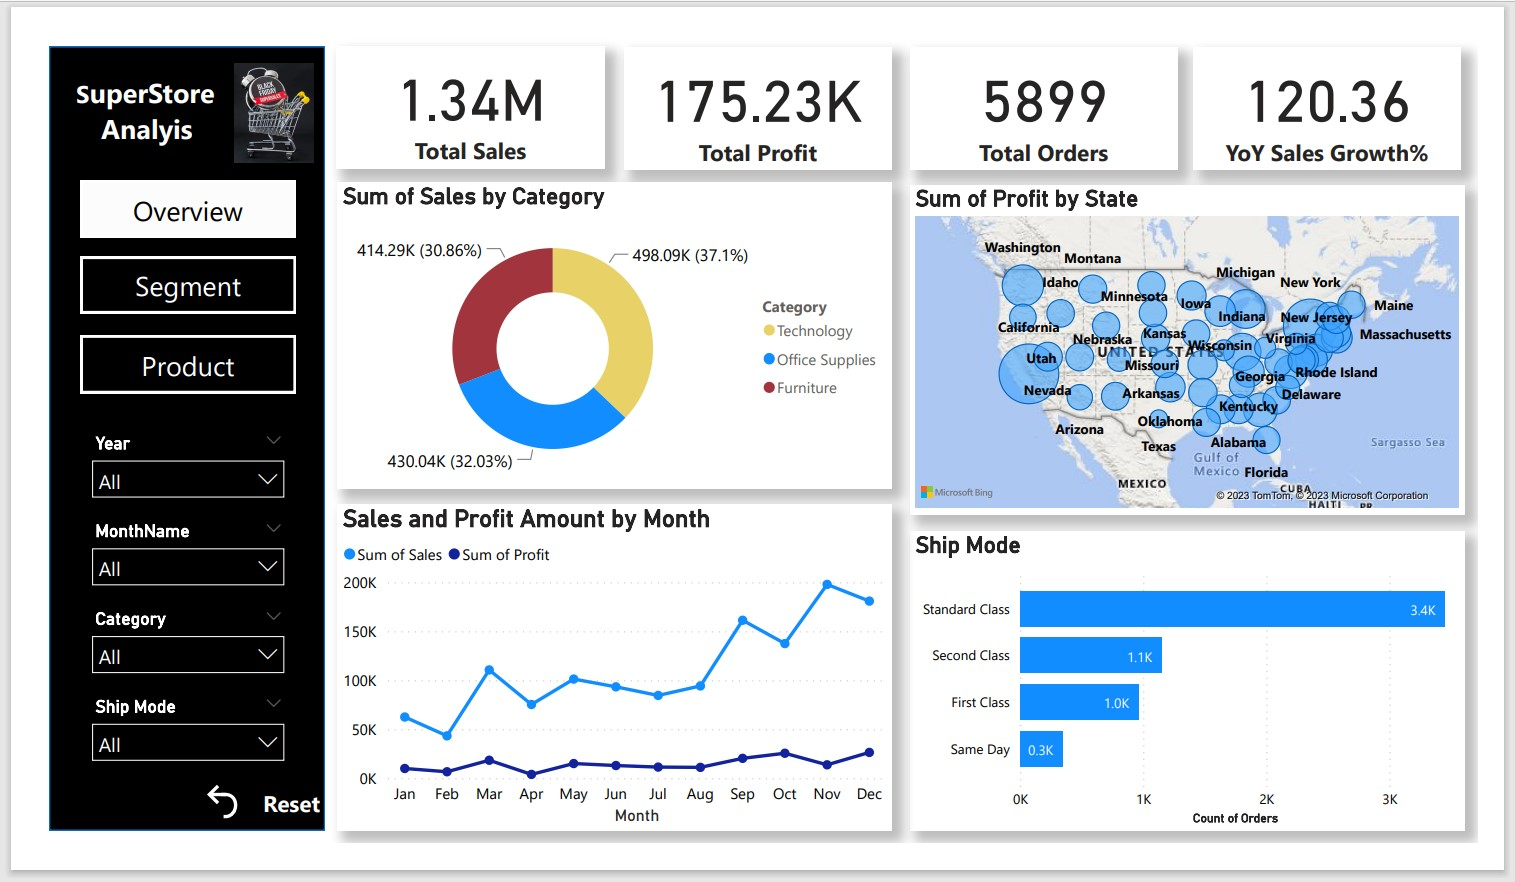

The page's visual inventory and layout, read from the dashboard file:
{"tool":"powerbi","page":{"name":"Overview","canvas":[1280,720],"ordinal":0},"visuals":[{"type":"shape","title":"SUPERSTORE","box":[9.8,12.2,245.7,696.8],"z":0},{"type":"textbox","box":[29.3,30.6,135.7,79.5],"z":1000},{"type":"image","box":[165,22,90.5,97.8],"z":2000},{"type":"actionButton","box":[37.9,130.8,190.7,51.3],"z":3000},{"type":"actionButton","box":[37.9,268.9,190.7,50.1],"z":4000},{"type":"actionButton","box":[37.9,205.4,190.7,51.3],"z":5000},{"type":"slicer","fields":{"Values":["Orders.Year"]},"box":[37.9,349.6,190.7,68.5],"z":6000},{"type":"slicer","fields":{"Values":["Orders.MonthName"]},"box":[37.9,427.8,190.7,78.2],"z":7000},{"type":"slicer","fields":{"Values":["Orders.Category"]},"box":[37.9,506.1,190.7,78.2],"z":8000},{"type":"slicer","fields":{"Values":["Orders.Ship Mode"]},"box":[37.9,584.3,190.7,78.2],"z":9000},{"type":"card","fields":{"Values":["Orders.Total Sales"]},"box":[265.3,12.2,238.4,108.8],"z":10000},{"type":"card","fields":{"Values":["Orders.Total Profit"]},"box":[520.7,13.4,238.4,108.8],"z":11000},{"type":"card","fields":{"Values":["CountNonNull(Orders.Order ID)"]},"box":[775,13.4,238.4,108.8],"z":12000},{"type":"card","fields":{"Values":["CountNonNull(Returns.Order ID)"]},"box":[1026.8,13.4,238.4,108.8],"z":13000},{"type":"donutChart","fields":{"Category":["Orders.Category"],"Y":["Sum(Orders.Sales)"]},"box":[266.2,132.5,492.5,272.5],"z":14000},{"type":"map","fields":{"Category":["Orders.State"],"Size":["Sum(Orders.Profit)"]},"box":[775,135,492.5,292.5],"z":15000},{"type":"barChart","title":"Count of Orders by Ship Mode","fields":{"Category":["Orders.Ship Mode"],"Y":["CountNonNull(Orders.Order ID)"]},"box":[775,442.5,492.5,266.2],"z":16000},{"type":"lineChart","title":"Sales and Profit Amount by Month","fields":{"Category":["Orders.MonthName"],"Y":["Sum(Orders.Sales)","Sum(Orders.Profit)"]},"box":[266.2,418.8,492.5,290],"z":17000},{"type":"actionButton","title":"Reset","box":[144.2,662.5,111.2,40.3],"z":20000}]}

Visuals, with their boxes on the page's 1280x720 design canvas (x1, y1, x2, y2). These are canvas units, not pixel positions in the 1515x882 screenshot, which may show the page scaled, cropped or inside an application window:
"SUPERSTORE" shape: bbox=[10, 12, 256, 709]
textbox: bbox=[29, 31, 165, 110]
image: bbox=[165, 22, 256, 120]
actionButton: bbox=[38, 131, 229, 182]
actionButton: bbox=[38, 269, 229, 319]
actionButton: bbox=[38, 205, 229, 257]
slicer - Orders.Year: bbox=[38, 350, 229, 418]
slicer - Orders.MonthName: bbox=[38, 428, 229, 506]
slicer - Orders.Category: bbox=[38, 506, 229, 584]
slicer - Orders.Ship Mode: bbox=[38, 584, 229, 662]
card - Orders.Total Sales: bbox=[265, 12, 504, 121]
card - Orders.Total Profit: bbox=[521, 13, 759, 122]
card - CountNonNull(Orders.Order ID): bbox=[775, 13, 1013, 122]
card - CountNonNull(Returns.Order ID): bbox=[1027, 13, 1265, 122]
donutChart - Orders.Category x Sum(Orders.Sales): bbox=[266, 132, 759, 405]
map - Orders.State x Sum(Orders.Profit): bbox=[775, 135, 1268, 428]
"Count of Orders by Ship Mode" barChart: bbox=[775, 442, 1268, 709]
"Sales and Profit Amount by Month" lineChart: bbox=[266, 419, 759, 709]
"Reset" actionButton: bbox=[144, 662, 255, 703]
